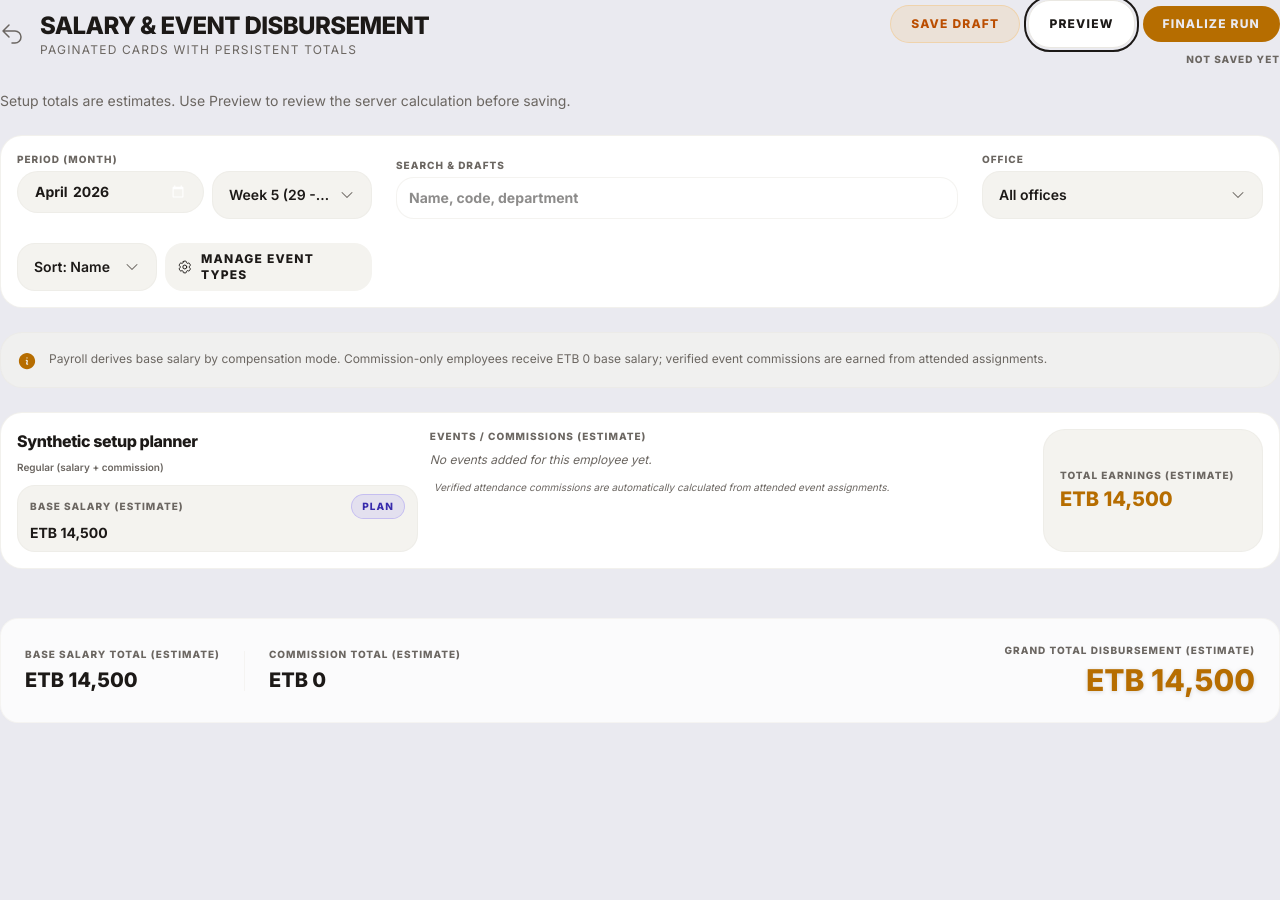
run page authoritative preview › preserves the configured weekly rollover policy
Click the button "Preview".
click(1082, 24)  # box [1028,0,1135,48]
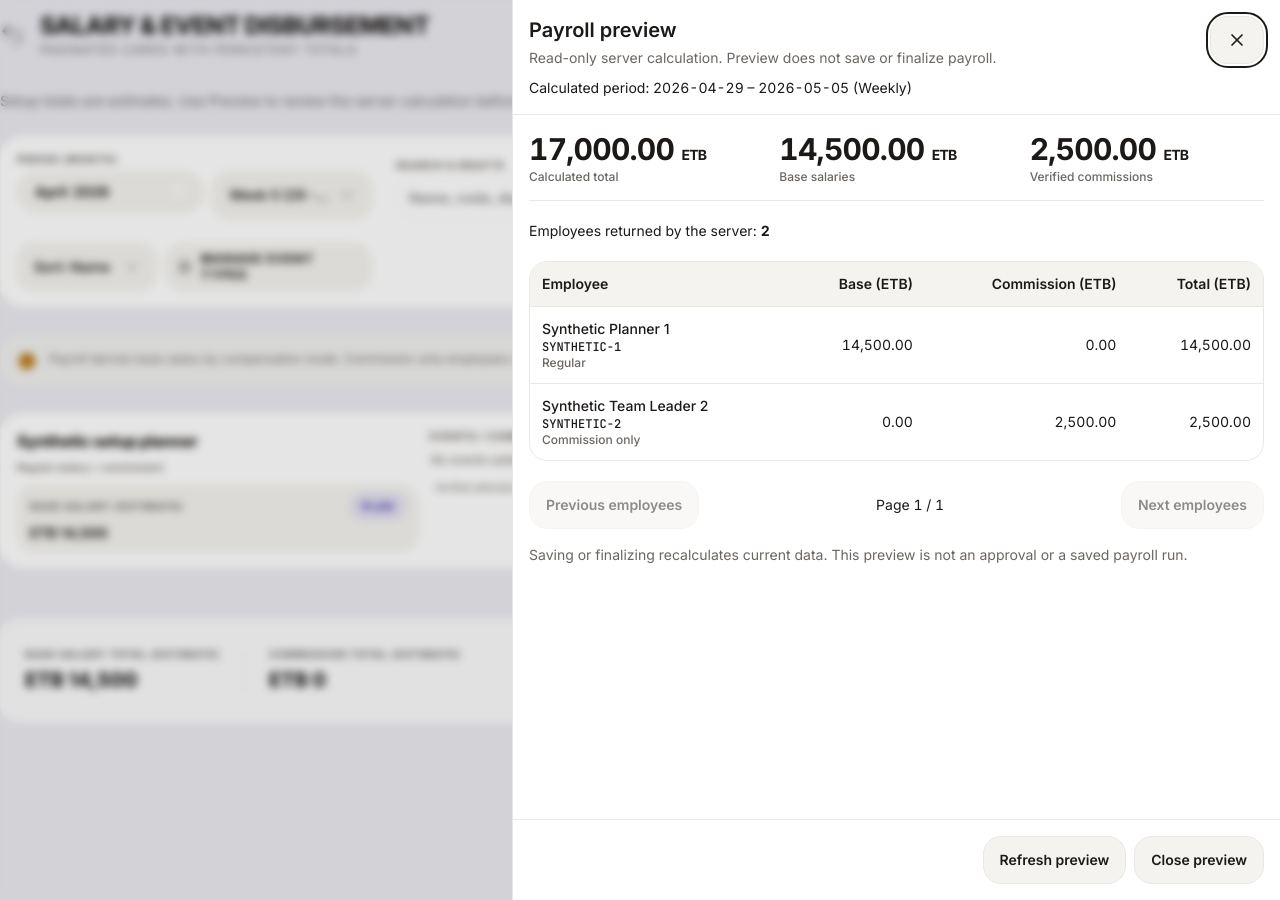
Expected: the text "Synthetic Planner 1" is shown, [542,320,670,337]
